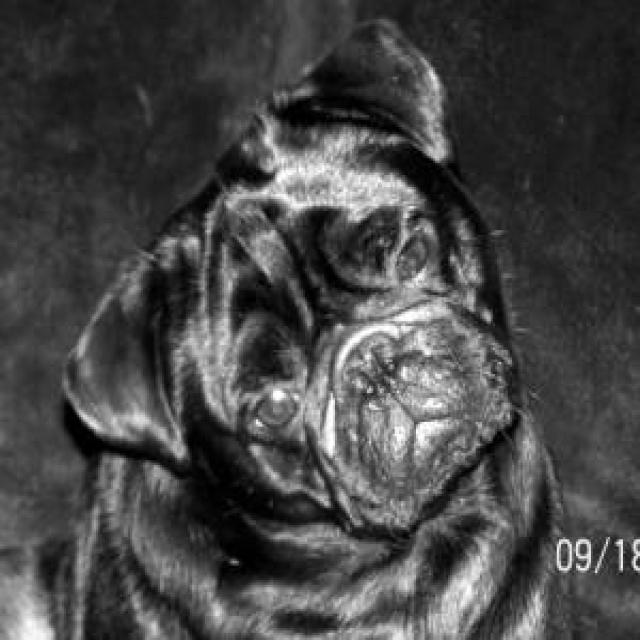dog-pug: (2, 19, 589, 635)
